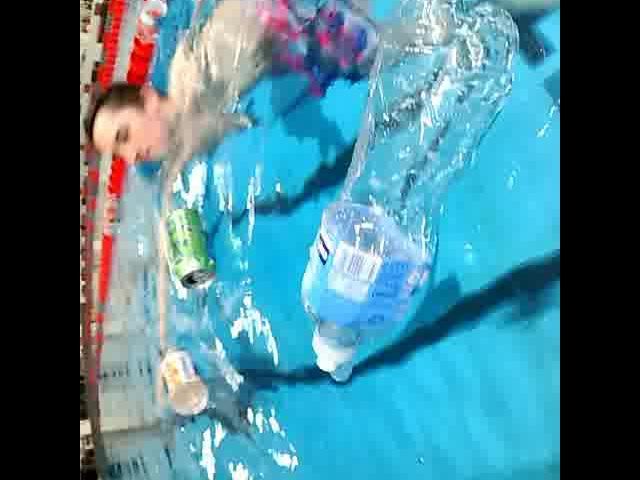Bottle: (298, 0, 522, 383), (158, 337, 218, 423)
Can: (162, 200, 216, 294)
